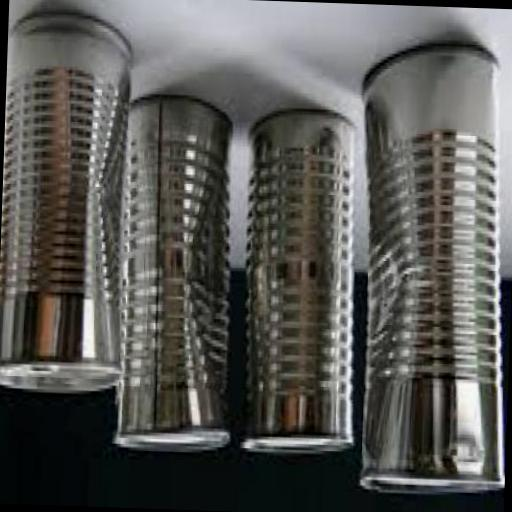metal: (346, 36, 512, 499), (0, 9, 131, 397), (110, 92, 240, 453), (236, 106, 363, 461)
